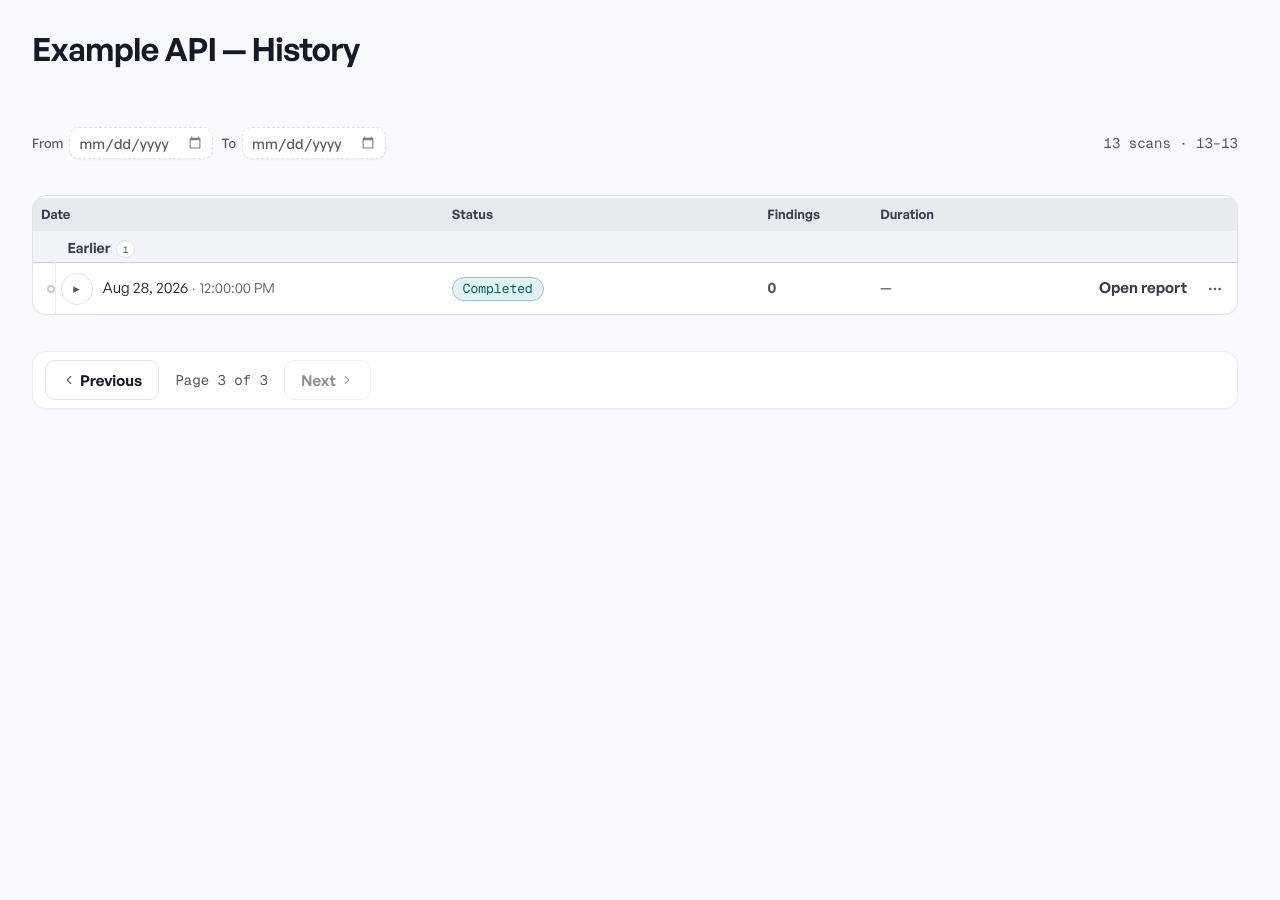
HistoryPage › restores the page from ?page= on mount and keeps the param in sync on navigation
expect the text "Page 3 of 3" is shown: met, box [176,371,268,389]
Click the button "Previous".
click(102, 380)  # box [45,360,159,400]
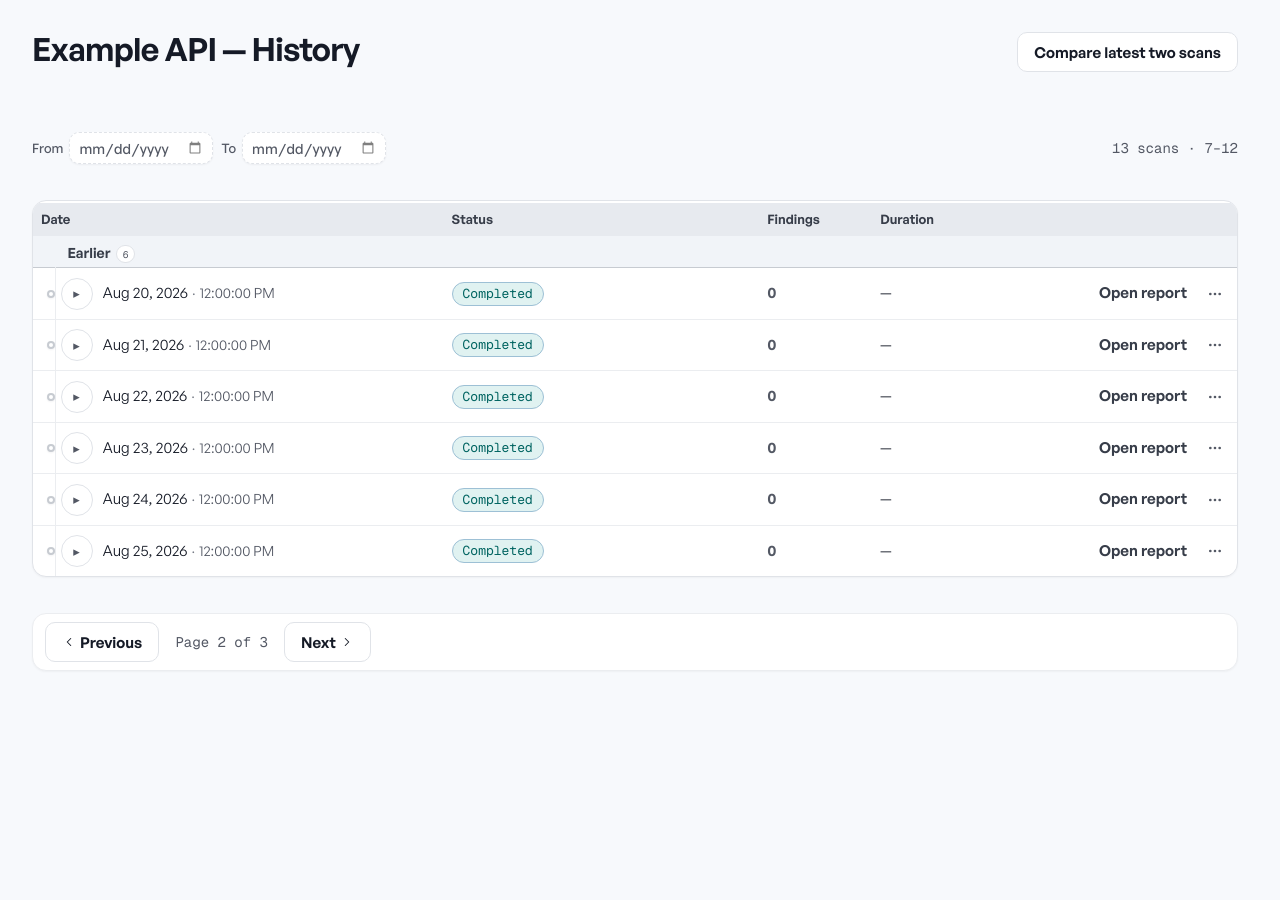
expect the text "Page 2 of 3" is shown: met, box [176,634,268,652]
